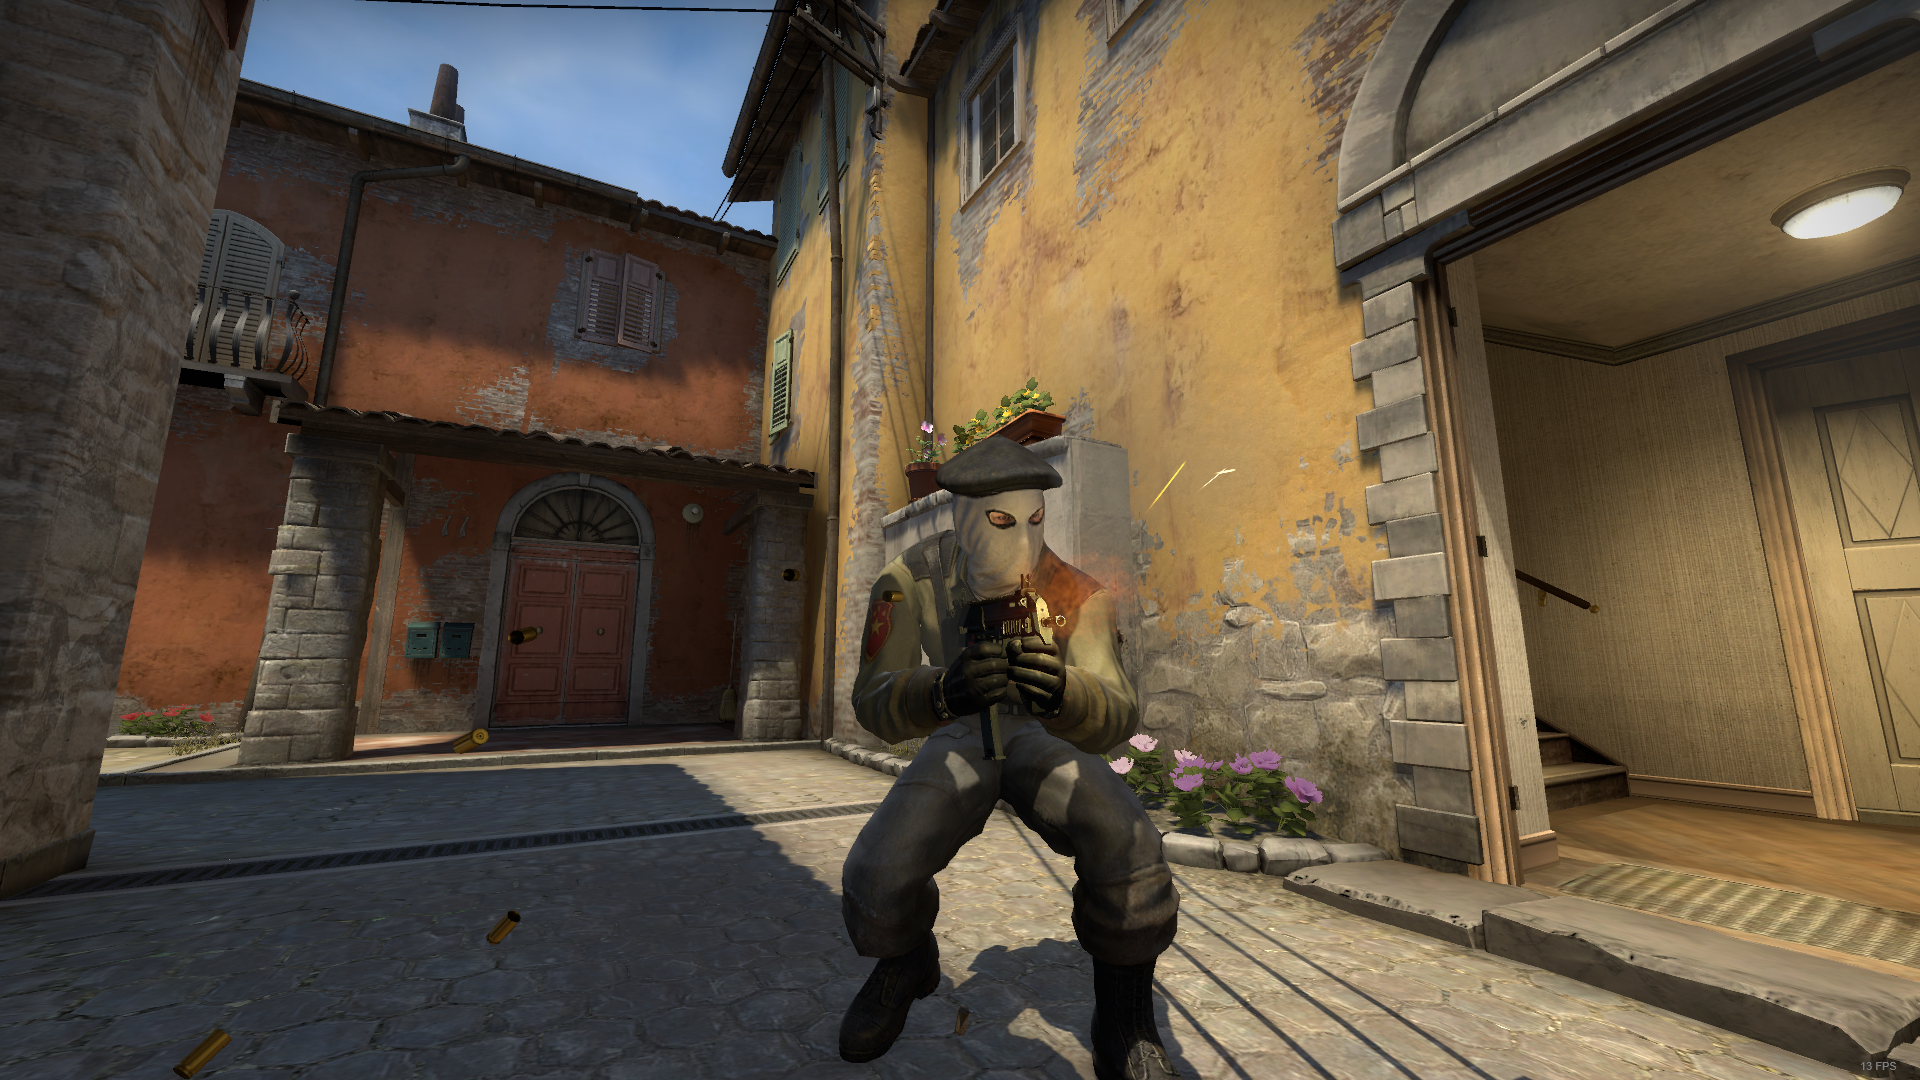t: (840, 435, 1192, 1073)
